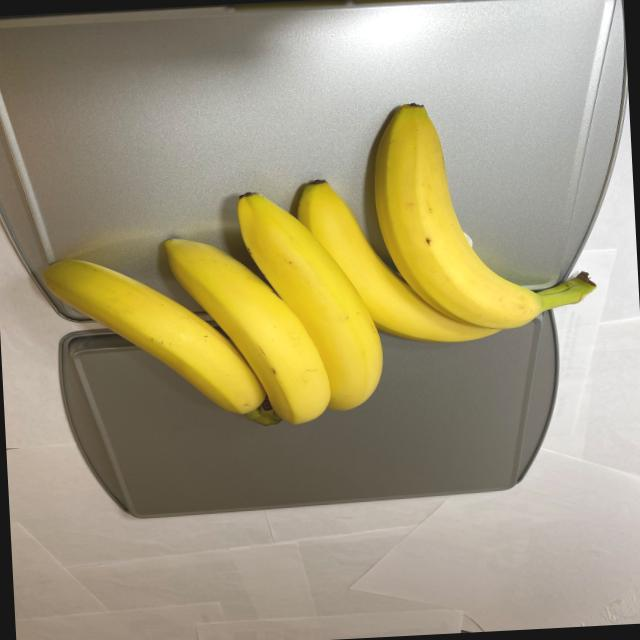banana: (31, 93, 597, 440)
